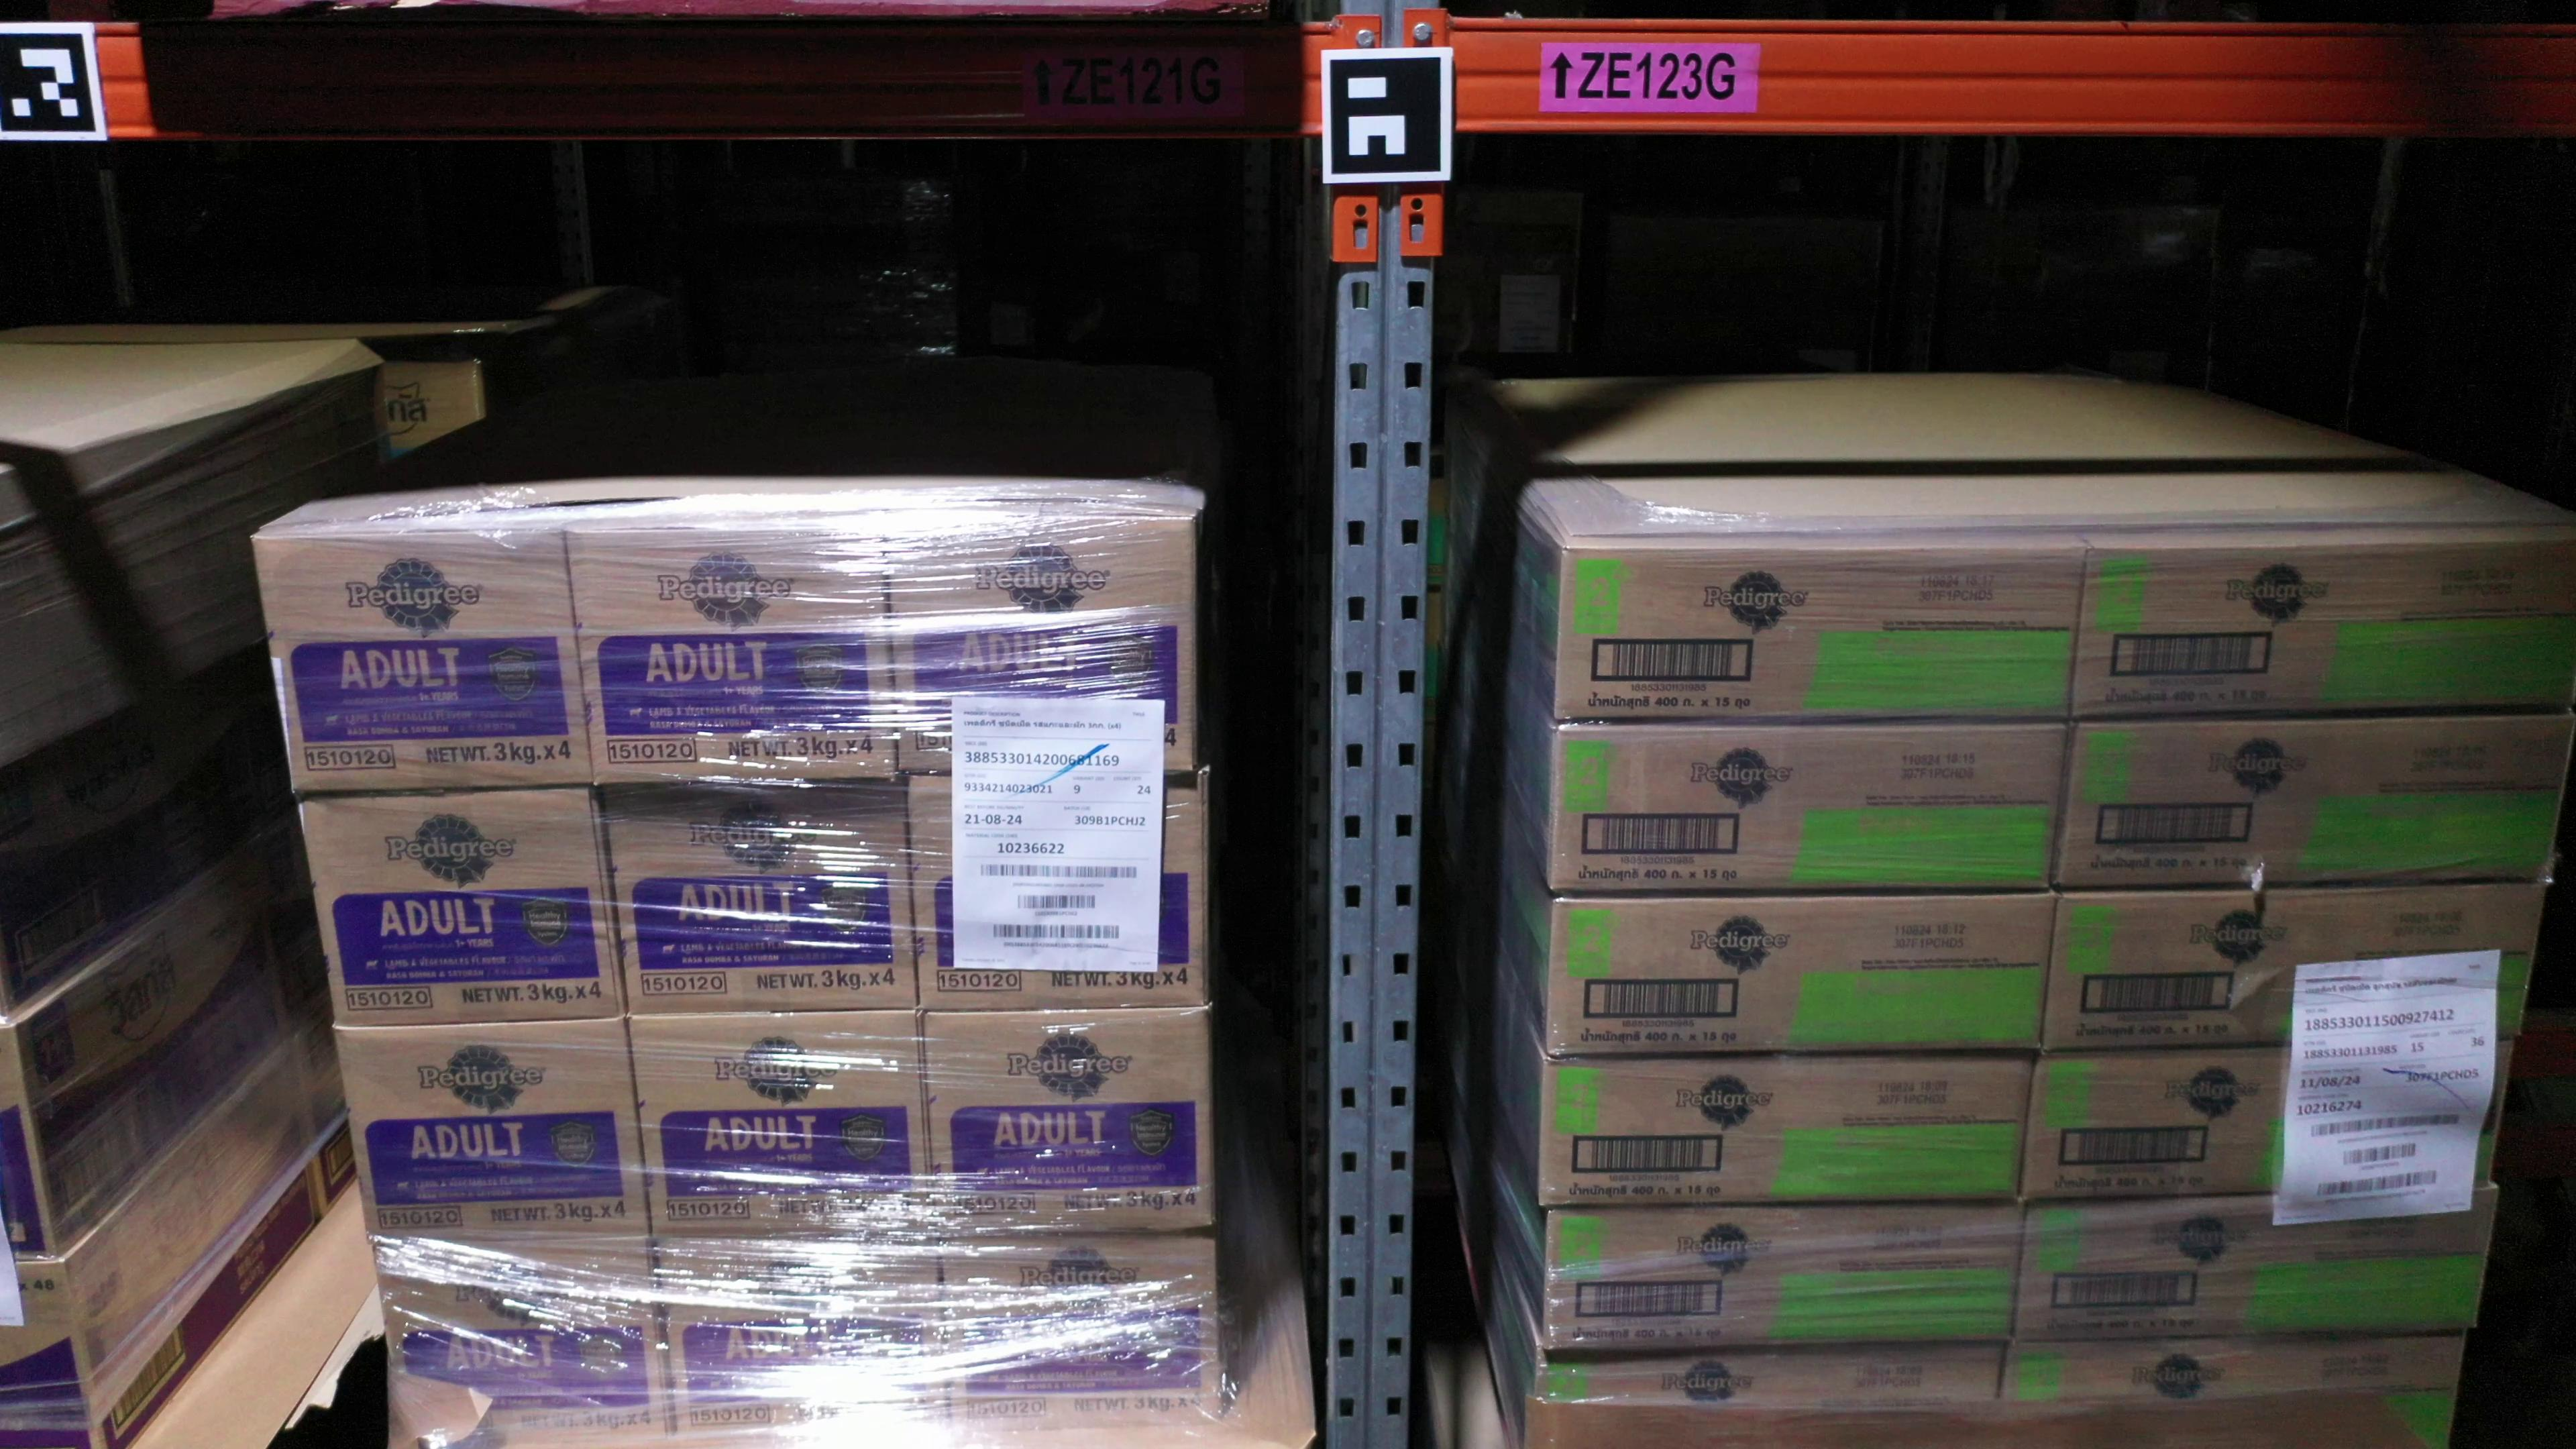-: (1550, 541, 2086, 727), (248, 533, 596, 800), (1550, 722, 2068, 895), (2074, 541, 2576, 718), (2056, 718, 2574, 888), (566, 527, 899, 786), (1545, 895, 2058, 1058), (2043, 883, 2544, 1049), (883, 518, 1196, 777), (299, 782, 626, 1028), (2024, 1042, 2516, 1205), (603, 780, 918, 1019), (2010, 1192, 2495, 1346), (1541, 1056, 2035, 1207), (336, 1016, 651, 1246), (1541, 1205, 2026, 1353), (626, 1014, 938, 1244), (904, 773, 1205, 1010), (924, 1008, 1214, 1246), (372, 1237, 678, 1444), (653, 1240, 950, 1444), (939, 1235, 1221, 1433), (2003, 1330, 2468, 1449), (1529, 1348, 2008, 1414), (0, 1260, 101, 1449), (0, 1024, 60, 1260)
